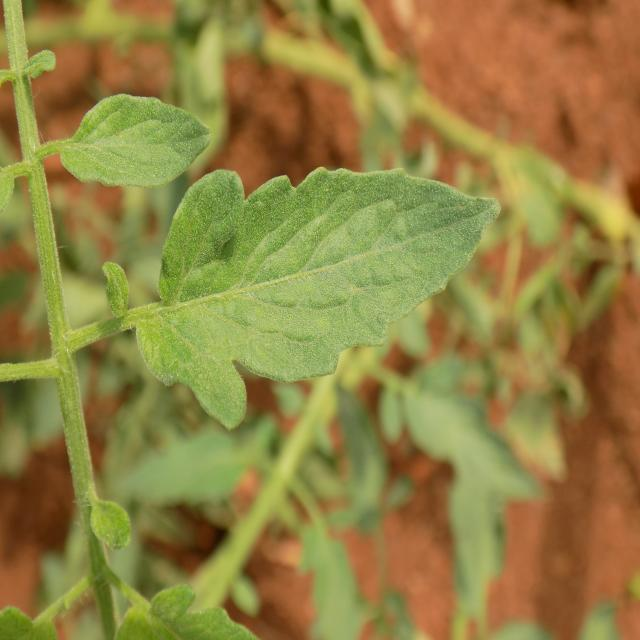tomato_healthy: (110, 166, 500, 431), (67, 93, 209, 188)
